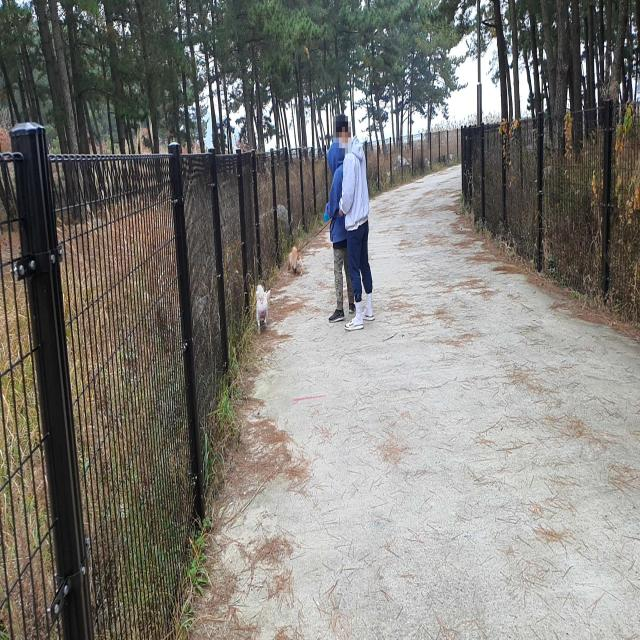Dog: (254, 283, 270, 334)
Leashed_Dog: (288, 204, 344, 277)
